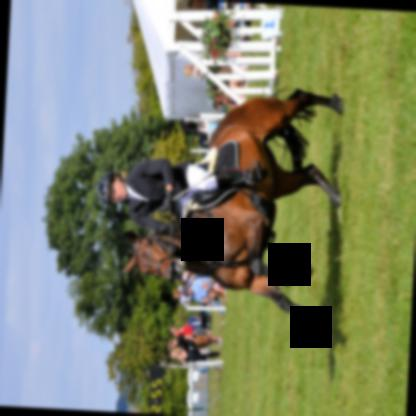backpack: (179, 118, 197, 132)
